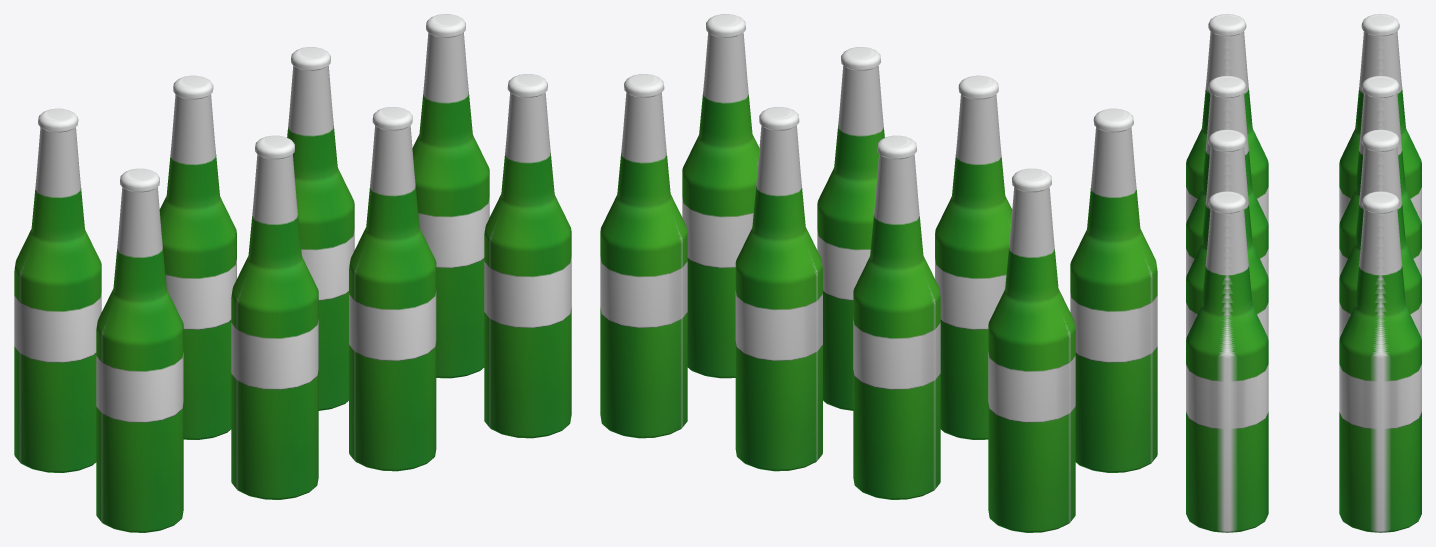
Rendered from Bottles01_7.FBX.
The picture shows the model from 3 angles, left to right: view 1: azimuth 30°, elevation 25°; view 2: azimuth 150°, elevation 25°; view 3: azimuth 270°, elevation 25°; orthographic projection. The views are drawn at different scales.
Visible parts, largest first — view 1: Bottles01_7; view 2: Bottles01_7; view 3: Bottles01_7.
Part boxes in pixels (left/top/right/bottom): Bottles01_7: left=14, top=14, right=571, bottom=532; Bottles01_7: left=600, top=14, right=1157, bottom=532; Bottles01_7: left=1186, top=14, right=1421, bottom=532.
Size of the model in its own units: 41.74 by 29.45 by 19.61.
